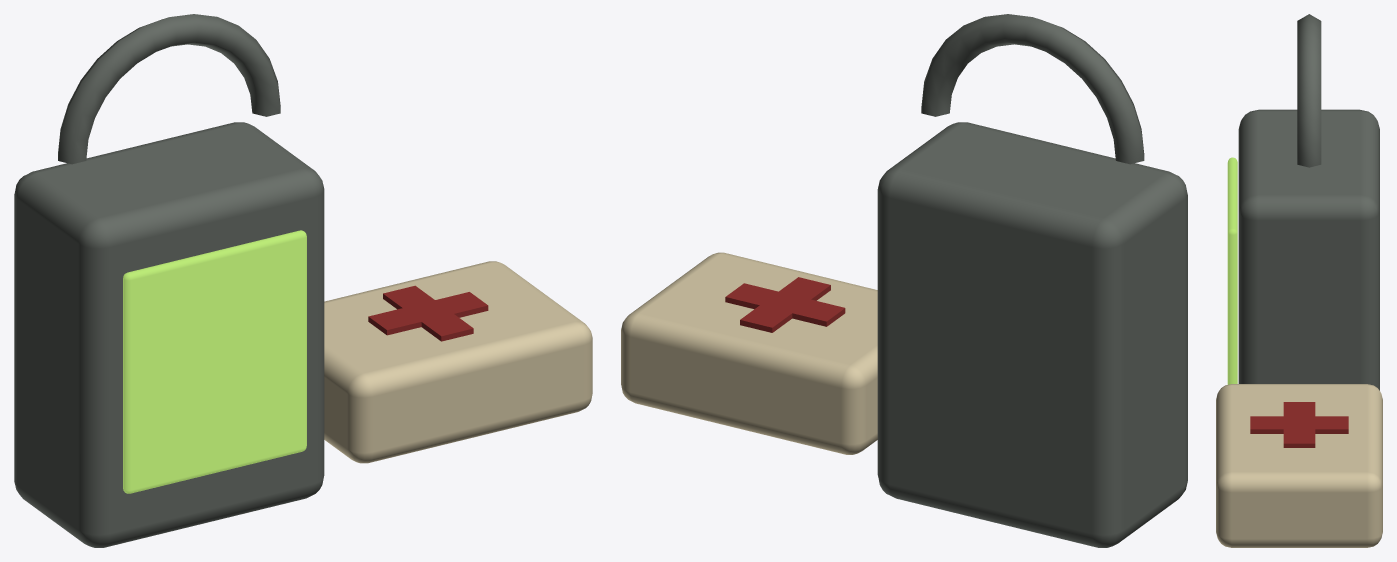
Rendered from ucb_sanity_restore_kit_psx.glb.
3 renders of one model, left to right at view 1: azimuth 30°, elevation 25°; view 2: azimuth 150°, elevation 25°; view 3: azimuth 270°, elevation 25°, orthographic. The views are drawn at different scales.
Visible parts, largest first — view 1: emergency_lantern, light_panel, first_aid_case, lantern_handle, cross_vertical, cross_horizontal; view 2: emergency_lantern, first_aid_case, lantern_handle, cross_vertical, cross_horizontal; view 3: emergency_lantern, first_aid_case, lantern_handle, light_panel, cross_vertical, cross_horizontal.
Part boxes in pixels (x1=…): emergency_lantern: x1=14, y1=122, x2=324, y2=547; light_panel: x1=123, y1=230, x2=306, y2=493; first_aid_case: x1=324, y1=261, x2=592, y2=463; lantern_handle: x1=58, y1=14, x2=280, y2=164; cross_vertical: x1=383, y1=285, x2=473, y2=341; cross_horizontal: x1=368, y1=292, x2=488, y2=335; emergency_lantern: x1=877, y1=122, x2=1187, y2=547; first_aid_case: x1=621, y1=252, x2=877, y2=454; lantern_handle: x1=921, y1=14, x2=1144, y2=164; cross_vertical: x1=740, y1=277, x2=830, y2=332; cross_horizontal: x1=725, y1=283, x2=845, y2=326; emergency_lantern: x1=1238, y1=109, x2=1379, y2=390; first_aid_case: x1=1216, y1=384, x2=1382, y2=547; lantern_handle: x1=1297, y1=14, x2=1321, y2=167; light_panel: x1=1227, y1=157, x2=1237, y2=384; cross_vertical: x1=1250, y1=416, x2=1348, y2=433; cross_horizontal: x1=1283, y1=402, x2=1315, y2=447.
Bounding box in the file's own units: 2.45 × 2.27 × 0.85.
